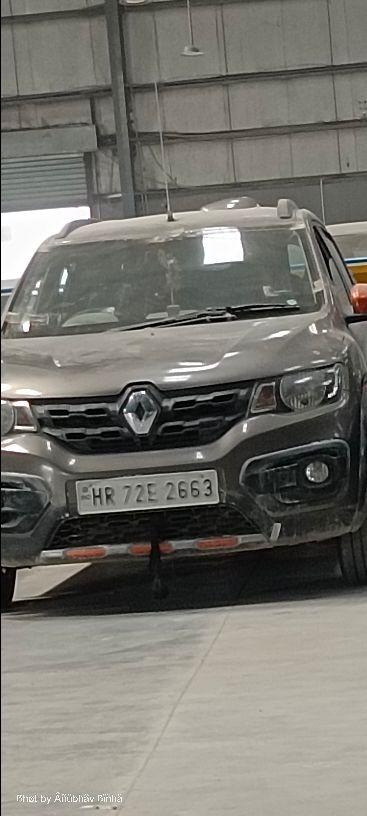license_plate: (73, 467, 220, 516)
